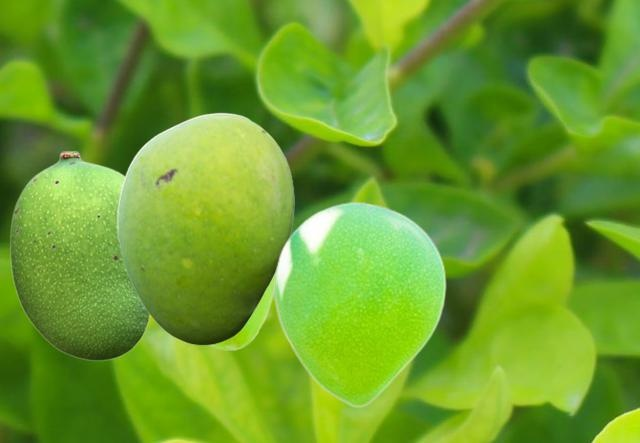green_mango: (116, 112, 293, 344), (274, 201, 445, 407), (9, 150, 149, 360), (206, 279, 273, 349)
